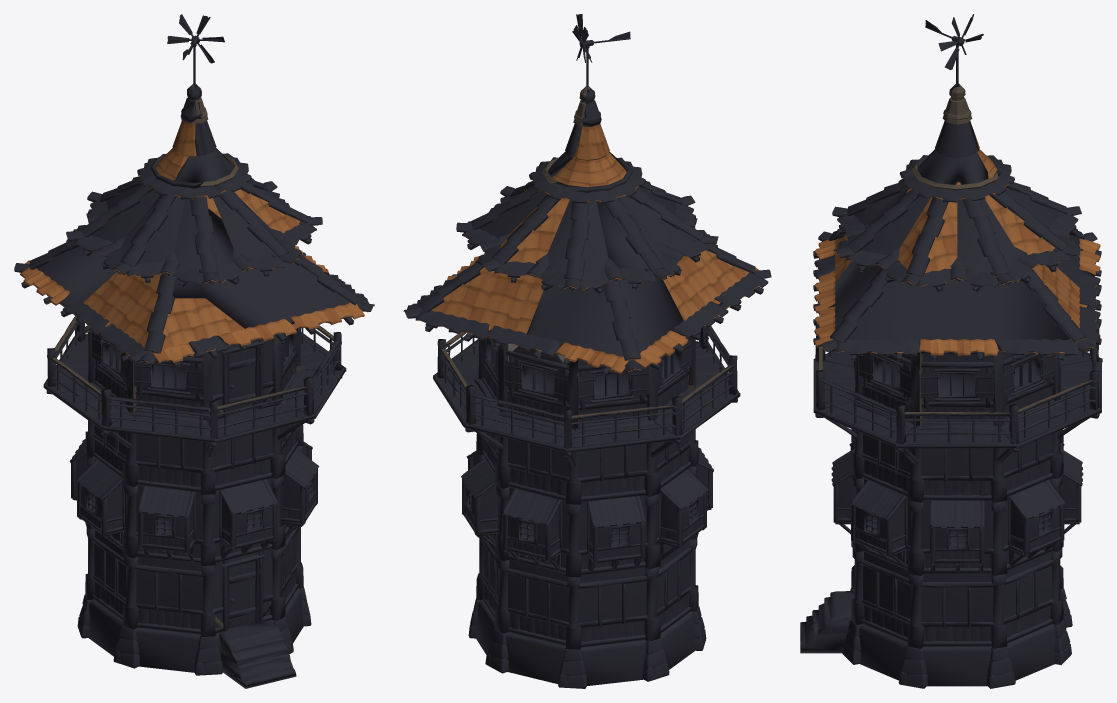
The model's file is SM_Bld_Preset_Tower_01_Optimized.fbx.
The picture shows the model from 3 angles, left to right: view 1: azimuth 30°, elevation 25°; view 2: azimuth 150°, elevation 25°; view 3: azimuth 270°, elevation 25°; orthographic projection. The views are drawn at different scales.
Visible parts, largest first — view 1: SM_Bld_Preset_Tower_01_Optimized_Outline, SM_Bld_Preset_Tower_01_Optimized; view 2: SM_Bld_Preset_Tower_01_Optimized_Outline, SM_Bld_Preset_Tower_01_Optimized; view 3: SM_Bld_Preset_Tower_01_Optimized_Outline, SM_Bld_Preset_Tower_01_Optimized.
Boxes of the visible parts, x1,y1,x2,y2 form: SM_Bld_Preset_Tower_01_Optimized_Outline: (14, 14, 374, 688); SM_Bld_Preset_Tower_01_Optimized: (20, 15, 373, 688); SM_Bld_Preset_Tower_01_Optimized_Outline: (404, 14, 771, 688); SM_Bld_Preset_Tower_01_Optimized: (403, 14, 771, 635); SM_Bld_Preset_Tower_01_Optimized_Outline: (800, 14, 1102, 688); SM_Bld_Preset_Tower_01_Optimized: (814, 17, 1100, 640).
Size of the model in its own units: 899 by 2146 by 938.
